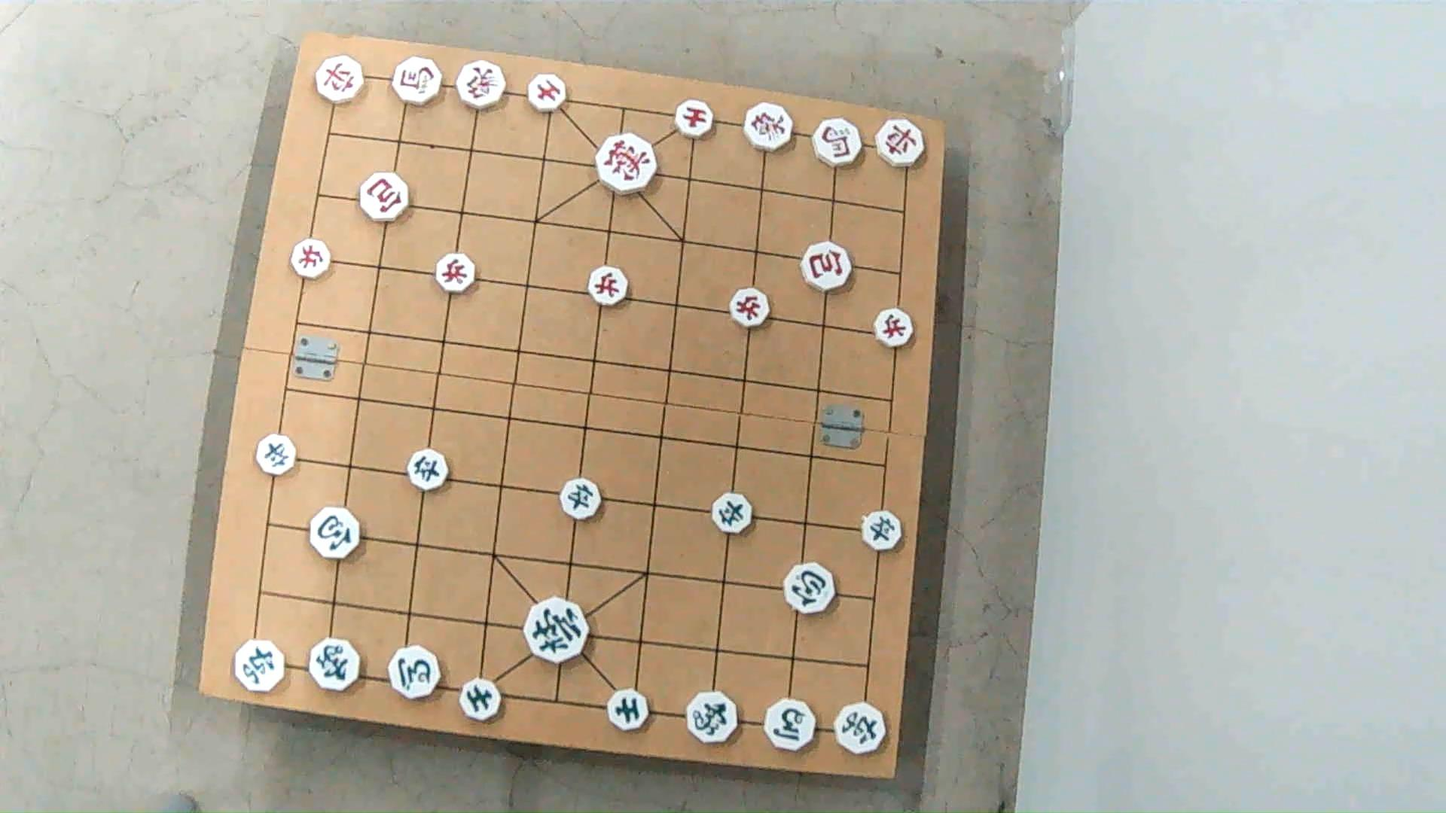cha_green: (834, 700, 885, 756), (233, 642, 283, 692)
cha_red: (313, 54, 365, 104), (874, 120, 925, 165)
jol_green: (406, 449, 448, 489), (253, 434, 295, 474), (559, 480, 602, 519), (711, 493, 753, 532), (862, 513, 904, 551)
jol_red: (872, 311, 914, 349), (435, 256, 478, 293), (590, 266, 631, 304), (290, 242, 332, 279), (729, 290, 770, 327)
ma_green: (389, 645, 442, 700), (766, 702, 818, 750)
ma_red: (810, 120, 862, 166), (392, 59, 443, 102)
po_green: (309, 508, 362, 559), (782, 565, 834, 613)
po_red: (362, 173, 412, 220), (801, 245, 851, 291)
sa_green: (606, 687, 652, 731), (460, 681, 502, 721)
sa_red: (524, 75, 566, 111), (675, 100, 715, 136)
sang_green: (686, 689, 738, 745), (307, 640, 359, 690)
sang_red: (747, 102, 795, 154), (455, 62, 507, 109)
wang_green: (523, 600, 590, 662)
wang_red: (598, 135, 659, 190)
